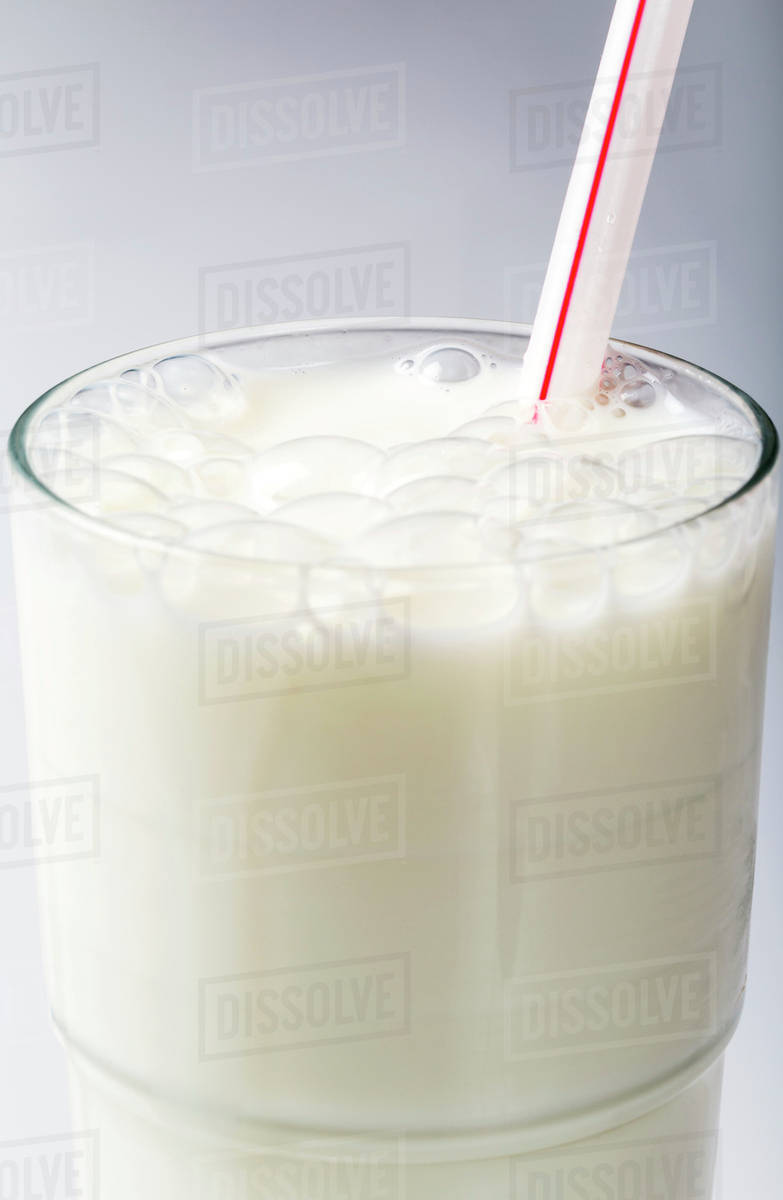glass of milk: (32, 370, 738, 1194)
